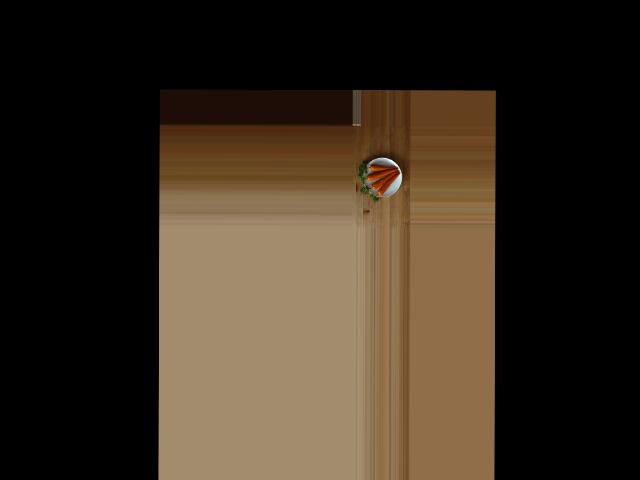carrot: (375, 172, 401, 197)
